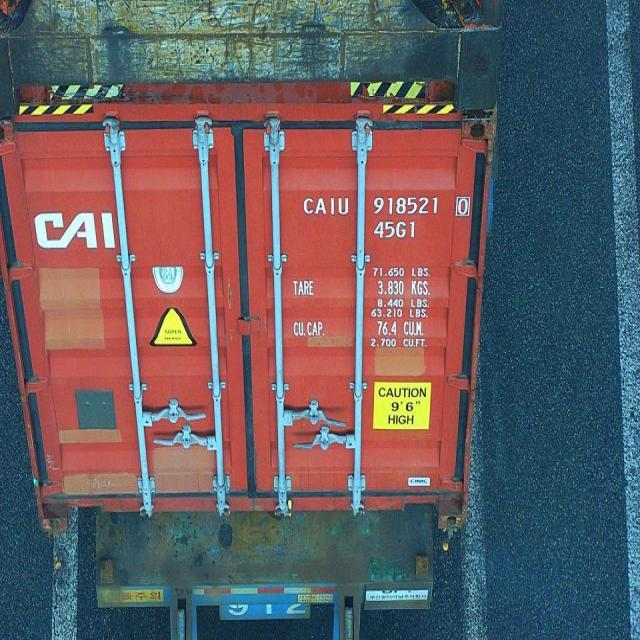ISO: (371, 220, 419, 240)
container_number: (310, 194, 468, 217)
